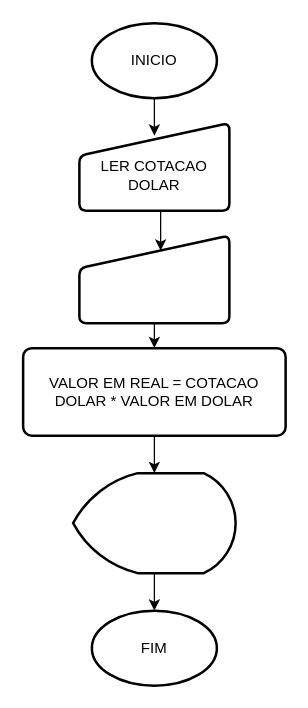
The diagram is 308 pixels wide and 708 high, and some of its shapes have lost their labels. The centre of each missing label's shape, as x and y in pixels:
LER VALOR EM DOLAR: point 154,279
VALOR EM REAL: point 153,522
